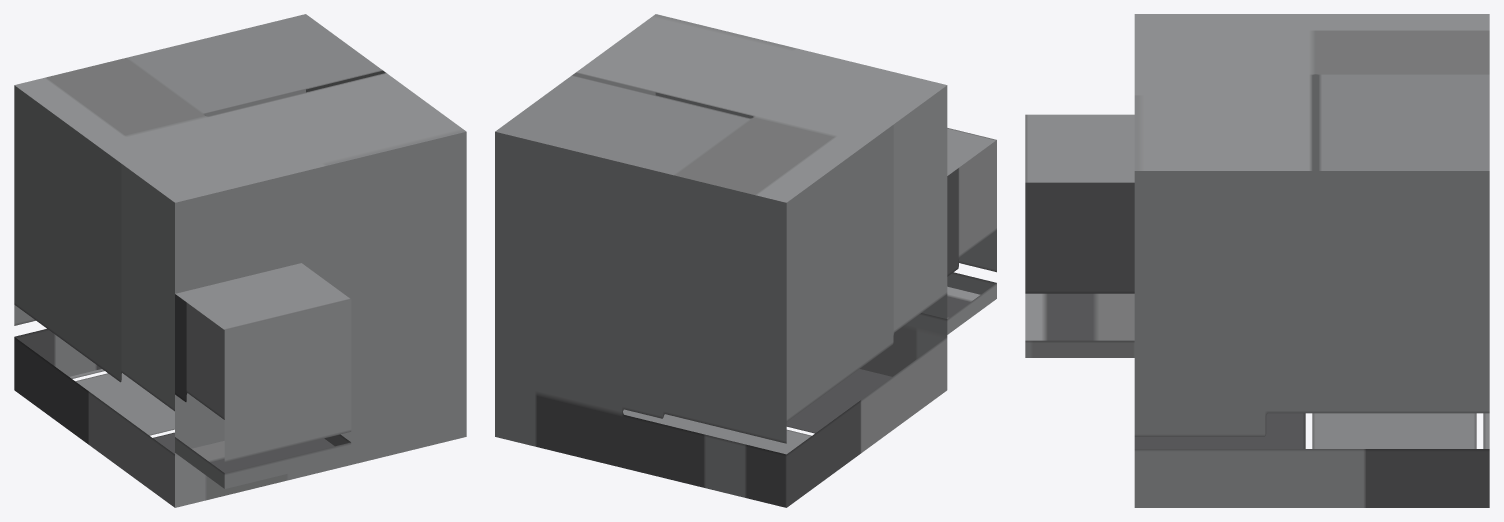
3 renders of one model, left to right at view 1: azimuth 30°, elevation 25°; view 2: azimuth 150°, elevation 25°; view 3: azimuth 270°, elevation 25°, orthographic. The views are drawn at different scales.
Size of the model in its own units: 0.8803 by 0.8803 by 1.1.
